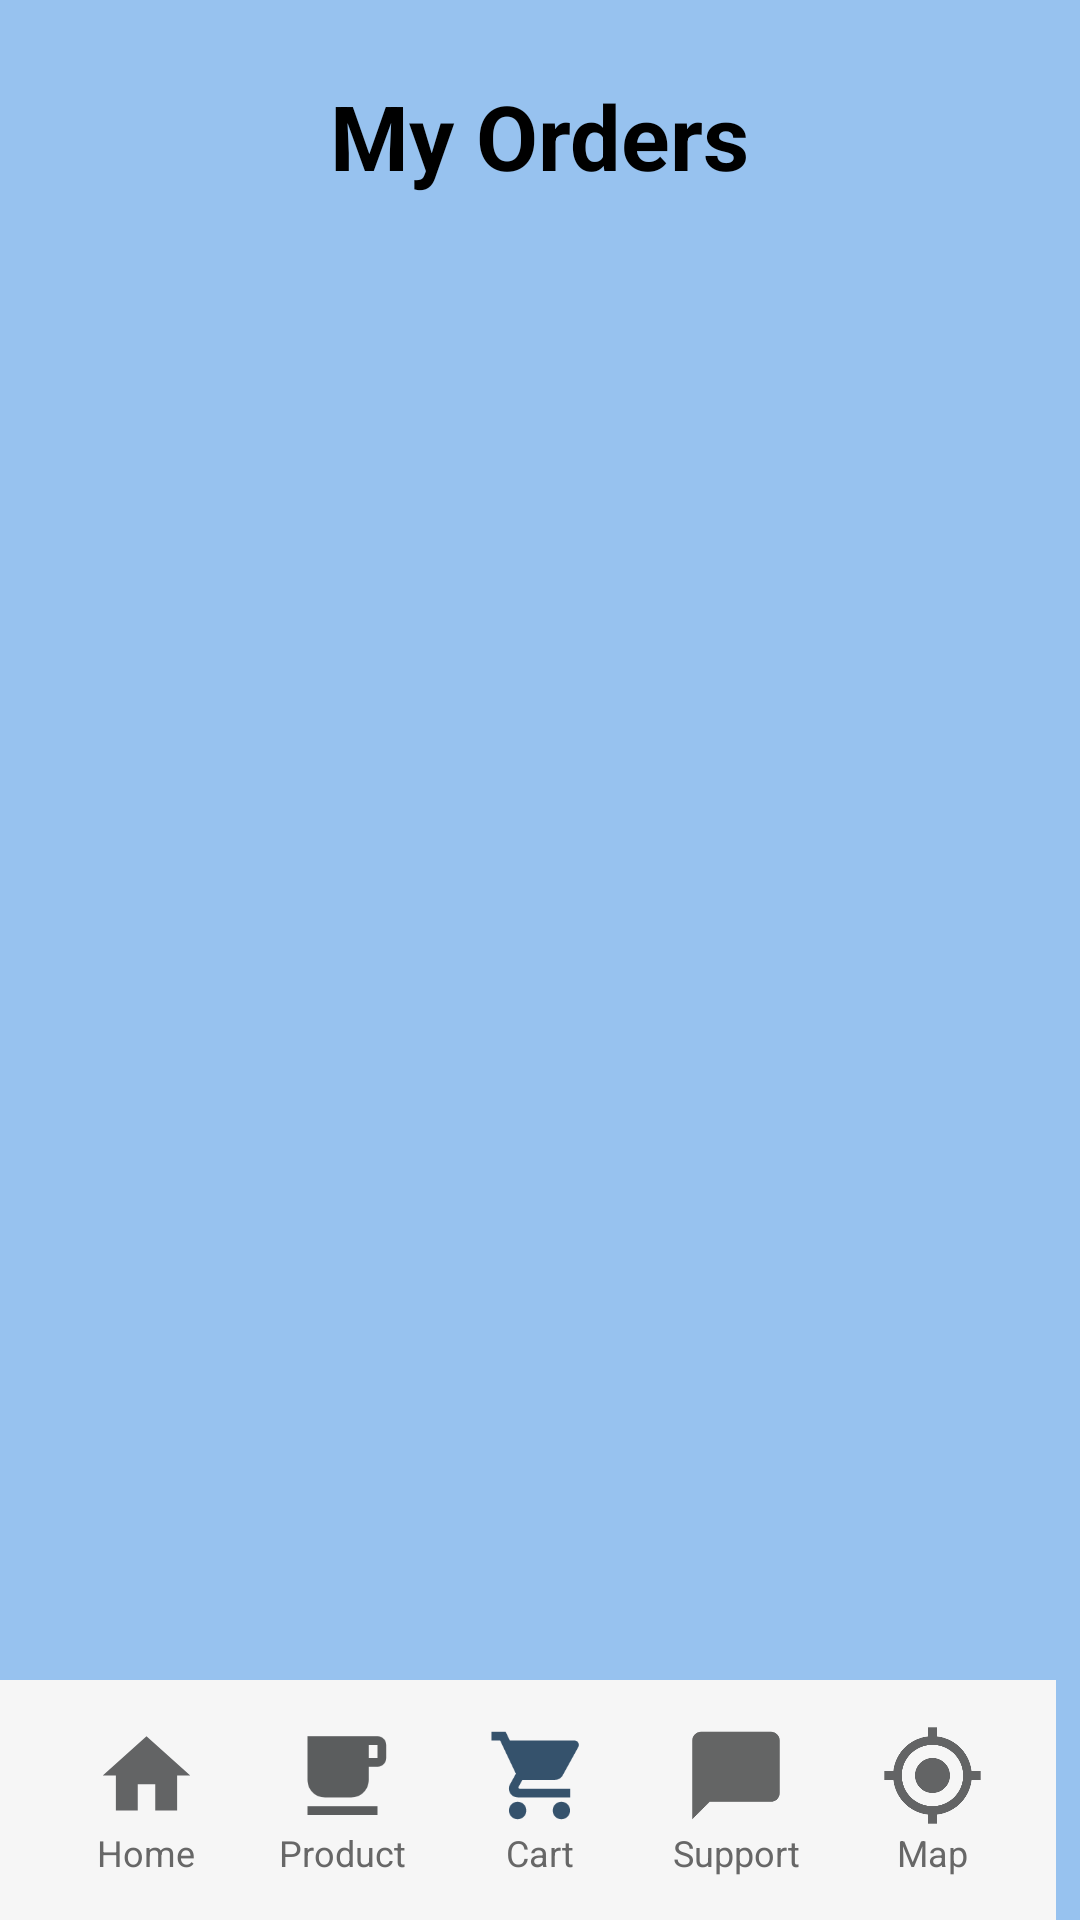

Icons on this 1080 × 1920 Android screen, each with the point to tap as [x,y]:
chat bubble nocolor: [736,1775]
free breakfast: [347,1775]
location: [932,1775]
